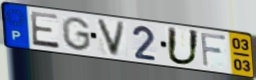2: (129, 23, 160, 63)
E: (28, 10, 61, 51)
F: (199, 31, 228, 69)
G: (60, 16, 93, 53)
U: (165, 25, 202, 67)
V: (94, 17, 128, 58)
